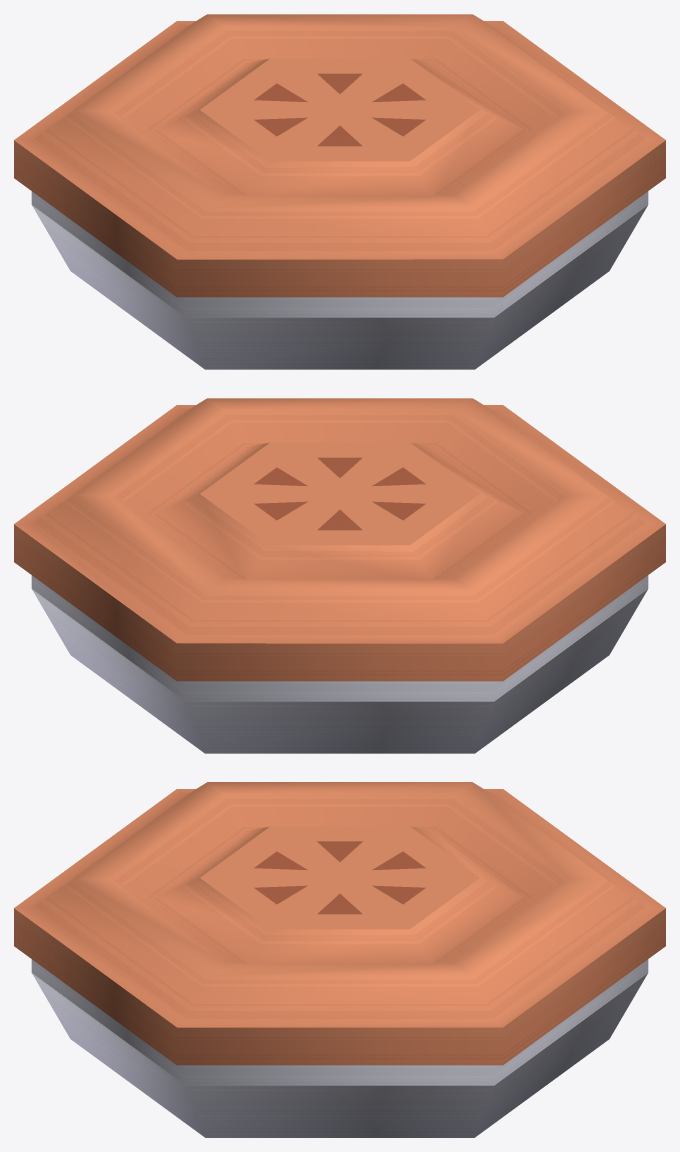
Rendered from kf_mincemeat-pie.glb.
The picture shows the model from 3 angles, top to bottom: view 1: azimuth 30°, elevation 25°; view 2: azimuth 150°, elevation 25°; view 3: azimuth 270°, elevation 25°; orthographic projection.
Parts seen in each view (by area): view 1: mincemeat-pie; view 2: mincemeat-pie; view 3: mincemeat-pie.
Part boxes in pixels (x1=…): mincemeat-pie: x1=14, y1=14, x2=665, y2=369; mincemeat-pie: x1=14, y1=398, x2=665, y2=753; mincemeat-pie: x1=14, y1=782, x2=665, y2=1137.
Size of the model in its own units: 0.1548 by 0.0488 by 0.1787.
1 material, 1 textured.
